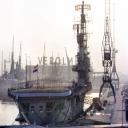Portanaves: (8, 2, 98, 126)
